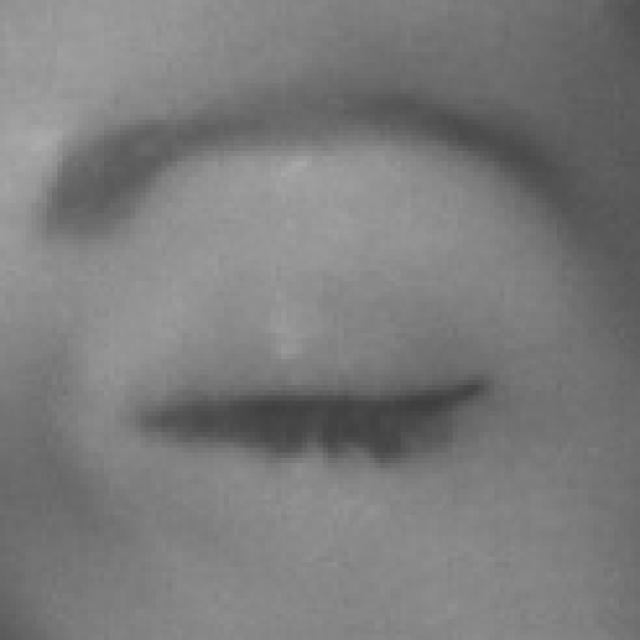Eyeclosed: (133, 275, 521, 560)
